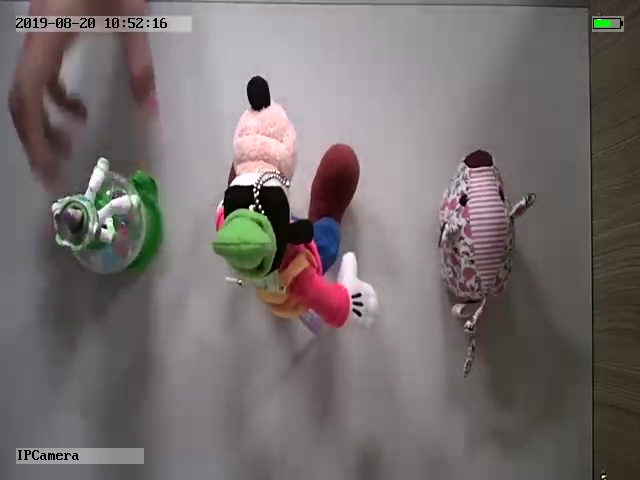buzz: (49, 156, 165, 282)
goofy: (209, 74, 380, 334)
pig: (435, 148, 537, 377)
